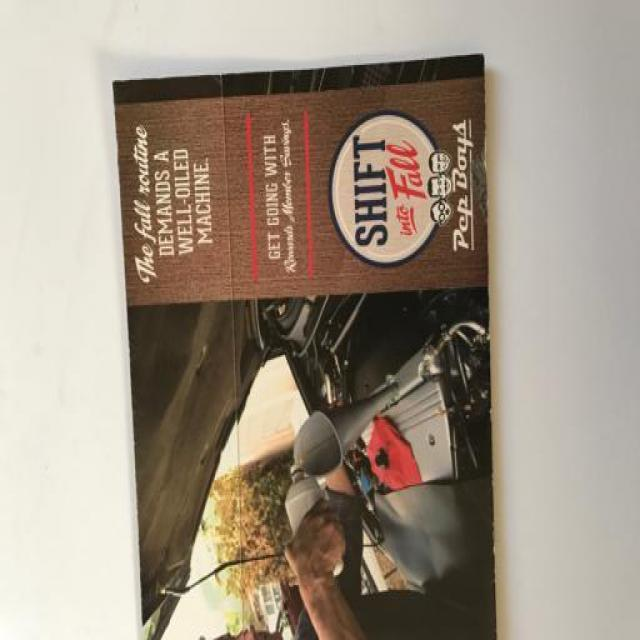paper: (105, 51, 551, 640)
